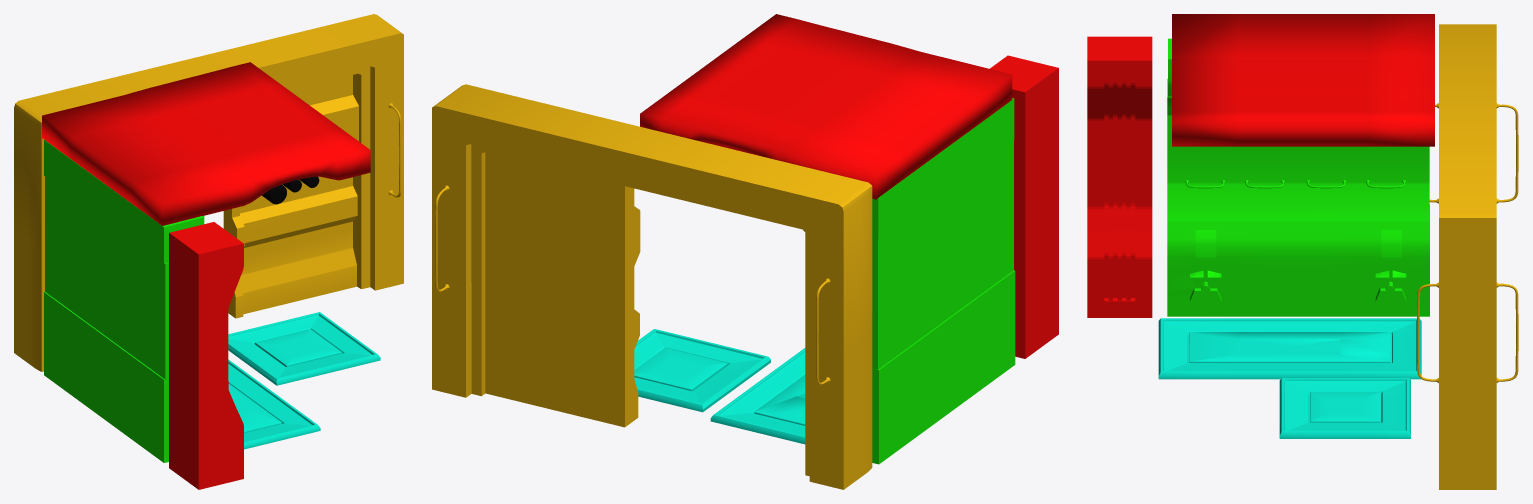
Rendered from PasilloFinal2.FBX.
3 renders of one model, left to right at view 1: azimuth 30°, elevation 25°; view 2: azimuth 150°, elevation 25°; view 3: azimuth 270°, elevation 25°, orthographic. The views are drawn at different scales.
Visible parts, largest first — view 1: Techo LowPoly, Marco LowPoly2, PilarLowP, Puerta LowPoly, LowPolyPared Medio, LowPoly Pared Bajo, Suelo Low Poly, Pared Arriba LowPoly, Suelo Largo Low poly; view 2: Marco LowPoly2, Techo LowPoly, Puerta LowPoly, LowPolyPared Medio, LowPoly Pared Bajo, PilarLowP, Suelo Low Poly, Pared Arriba LowPoly, Suelo Largo Low poly; view 3: Techo LowPoly, Marco LowPoly2, LowPoly Pared Bajo, LowPolyPared Medio, PilarLowP, Suelo Largo Low poly, Suelo Low Poly.
Part boxes in pixels (x1,y1,x2,y2): Techo LowPoly: (42,62,370,225); Marco LowPoly2: (14,14,403,371); PilarLowP: (169,222,243,489); Puerta LowPoly: (223,75,358,318); LowPolyPared Medio: (45,177,168,379); LowPoly Pared Bajo: (44,291,168,462); Suelo Low Poly: (228,312,380,385); Pared Arriba LowPoly: (44,139,204,263); Suelo Largo Low poly: (228,359,320,449); Marco LowPoly2: (432,84,872,489); Techo LowPoly: (640,14,1012,199); Puerta LowPoly: (485,152,640,427); LowPolyPared Medio: (872,140,1013,369); LowPoly Pared Bajo: (872,270,1015,464); PilarLowP: (990,55,1058,358); Suelo Low Poly: (634,329,770,412); Pared Arriba LowPoly: (872,98,1014,238); Suelo Largo Low poly: (710,348,805,444); Techo LowPoly: (1172,14,1434,146); Marco LowPoly2: (1417,24,1518,489); LowPoly Pared Bajo: (1167,205,1429,316); LowPolyPared Medio: (1167,78,1429,221); PilarLowP: (1087,36,1152,317); Suelo Largo Low poly: (1158,318,1421,379); Suelo Low Poly: (1279,378,1410,438).
Bounding box in the file's own units: 3.51 × 2.41 × 3.28.
